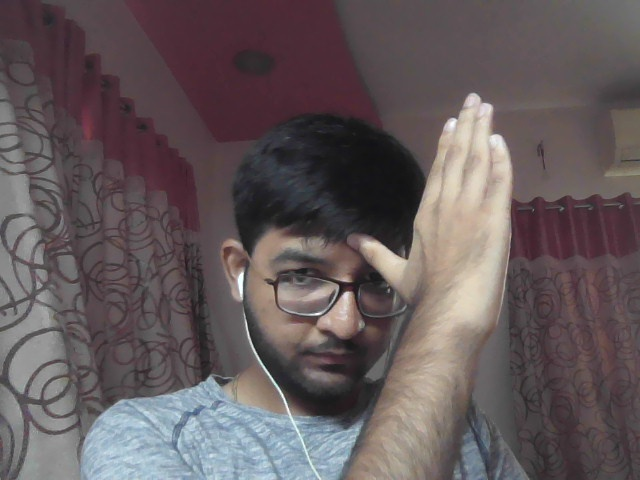પિતા: (336, 81, 546, 340)
